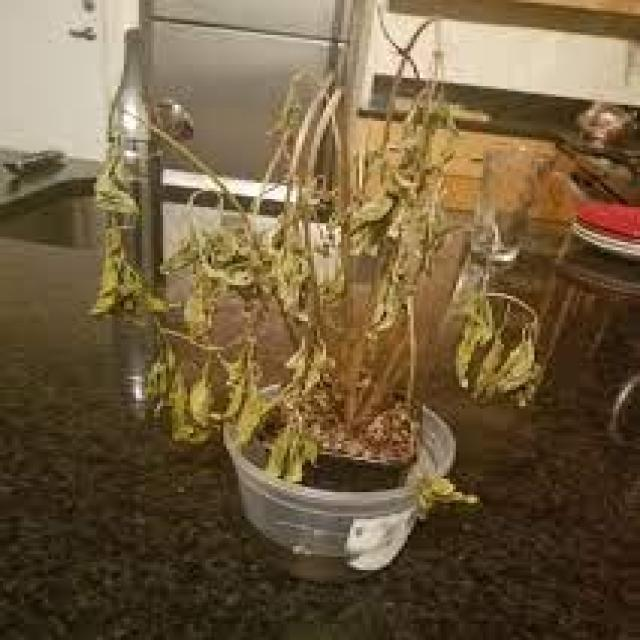unhealthy: (61, 21, 554, 503)
